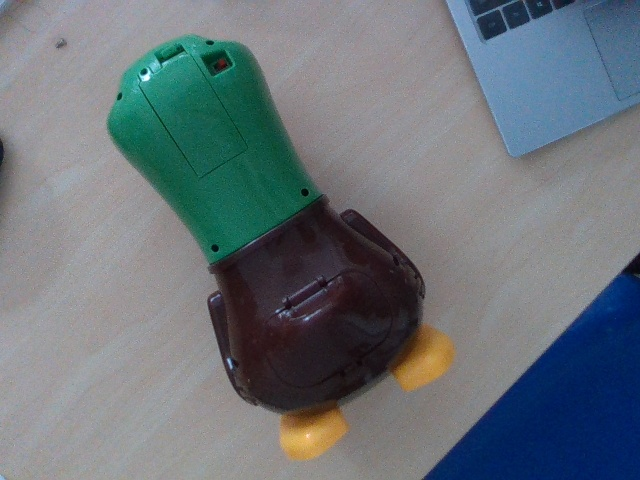screw hole: (229, 356, 238, 367), (211, 242, 219, 252), (116, 92, 124, 100), (301, 188, 309, 195), (141, 67, 148, 75), (205, 40, 216, 45)
toy: (107, 33, 456, 463)
